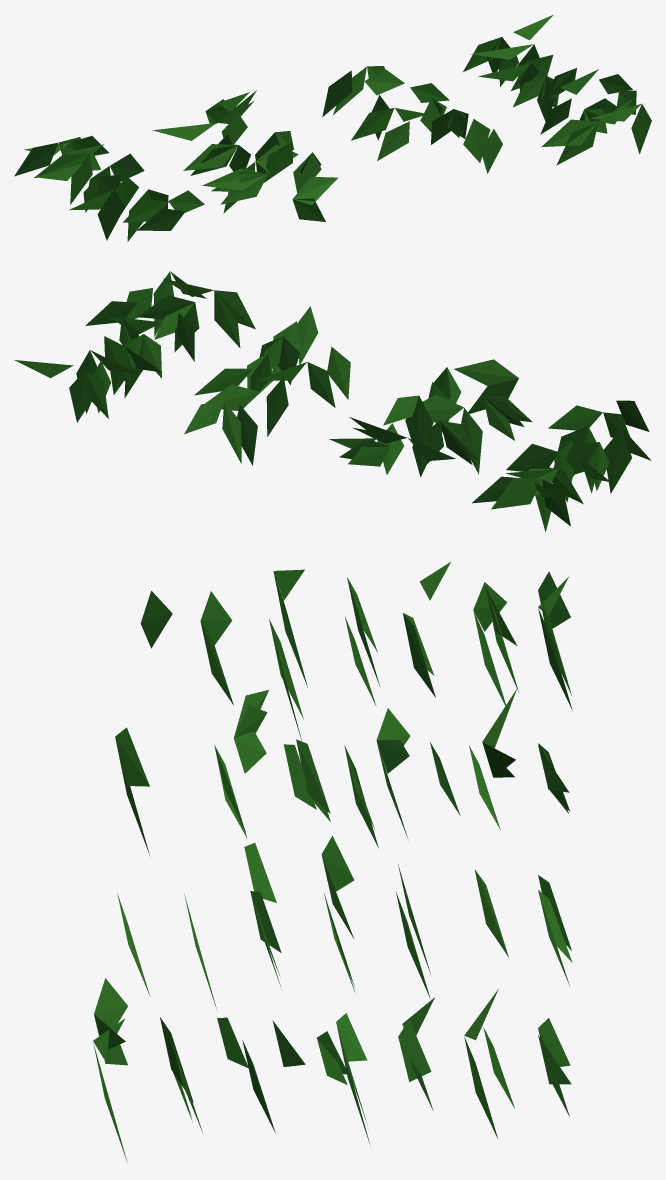
3 renders of one model, top to bottom at view 1: azimuth 30°, elevation 25°; view 2: azimuth 150°, elevation 25°; view 3: azimuth 270°, elevation 25°, orthographic. The views are drawn at different scales.
Visible parts, largest first — view 1: r21c4_l01; view 2: r21c4_l01; view 3: r21c4_l01.
Boxes of the visible parts, <box> form: r21c4_l01: <box>14,15,651,241</box>; r21c4_l01: <box>14,271,651,531</box>; r21c4_l01: <box>93,562,572,1162</box>.
Bounding box in the file's own units: 1.73 × 0.2142 × 0.6465.
